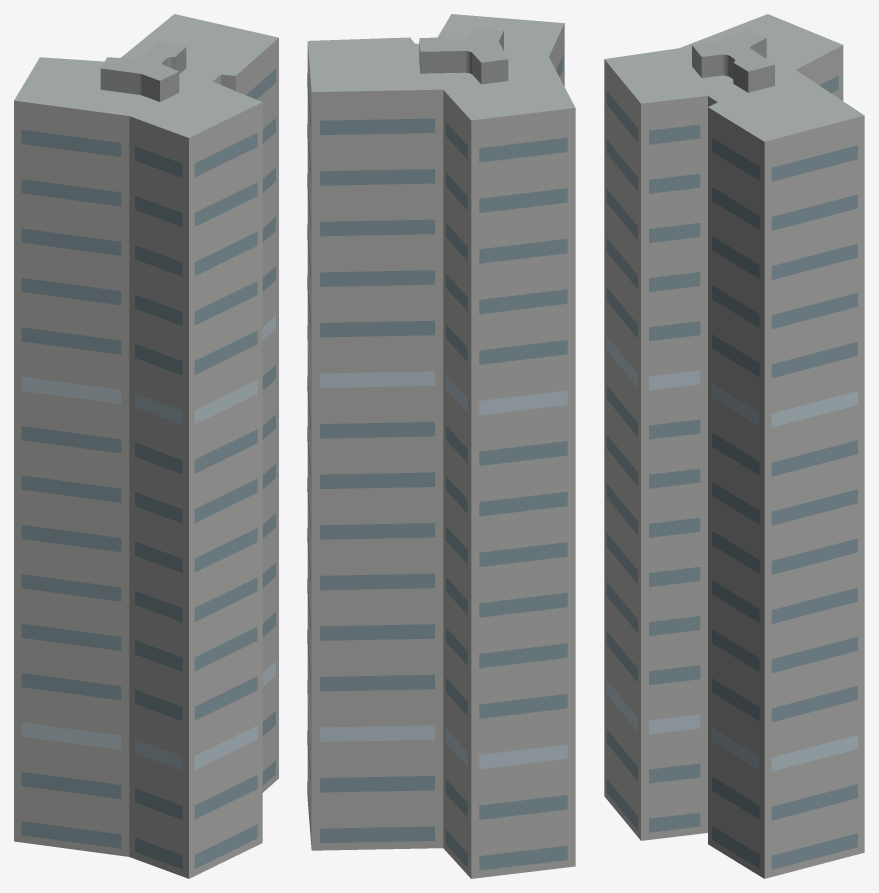
Rendered from fallback-gangdong-lotte-castle-first-120.glb.
The picture shows the model from 3 angles, left to right: view 1: azimuth 30°, elevation 25°; view 2: azimuth 150°, elevation 25°; view 3: azimuth 270°, elevation 25°; orthographic projection. The views are drawn at different scales.
Parts seen in each view (by area): view 1: fallback-gangdong-lotte-castle-first-120; view 2: fallback-gangdong-lotte-castle-first-120; view 3: fallback-gangdong-lotte-castle-first-120.
Boxes of the visible parts, bbox=[...] form: fallback-gangdong-lotte-castle-first-120: bbox=[14, 14, 278, 878]; fallback-gangdong-lotte-castle-first-120: bbox=[307, 14, 575, 878]; fallback-gangdong-lotte-castle-first-120: bbox=[604, 14, 864, 878].
Size of the model in its own units: 31.09 by 86 by 26.76.
